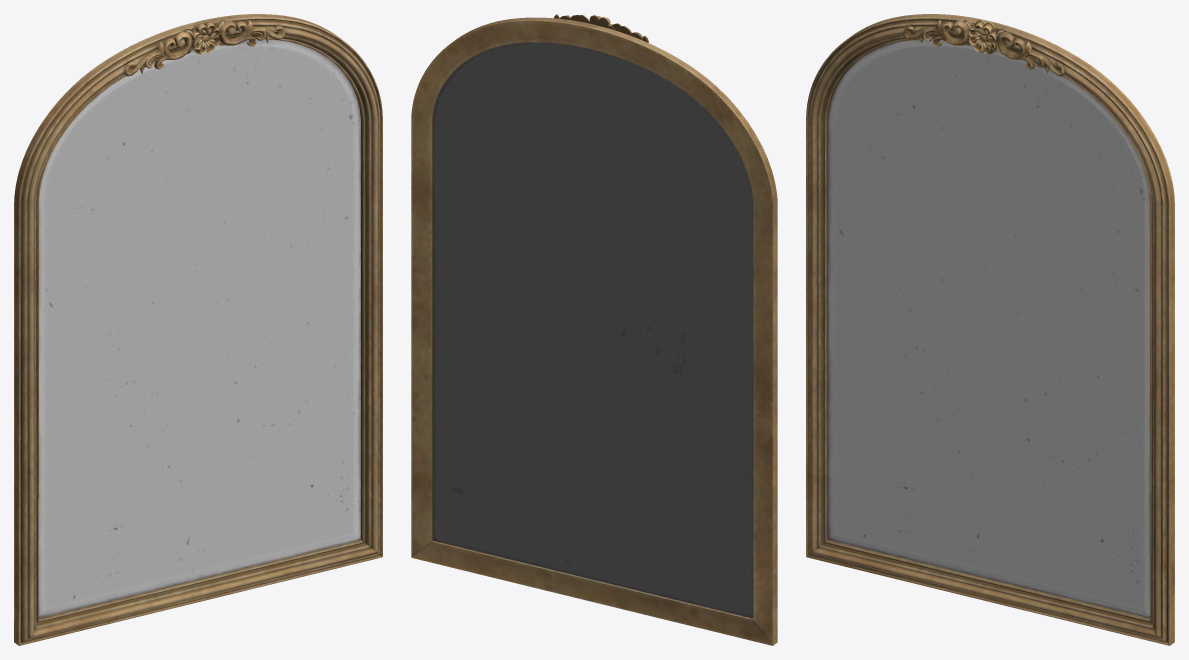
The model's file is ornate_mirror_01.glb.
The picture shows the model from 3 angles, left to right: view 1: azimuth 30°, elevation 25°; view 2: azimuth 150°, elevation 25°; view 3: azimuth 330°, elevation 25°; orthographic projection.
Visible parts, largest first — view 1: ornate_mirror_01; view 2: ornate_mirror_01; view 3: ornate_mirror_01.
Part boxes in pixels (<box>): ornate_mirror_01: <box>14,14,382,645</box>; ornate_mirror_01: <box>411,14,777,645</box>; ornate_mirror_01: <box>806,14,1174,645</box>.
Bounding box in the file's own units: 0.4865 × 0.7442 × 0.026.
Materials: 1 (1 with a texture image).
